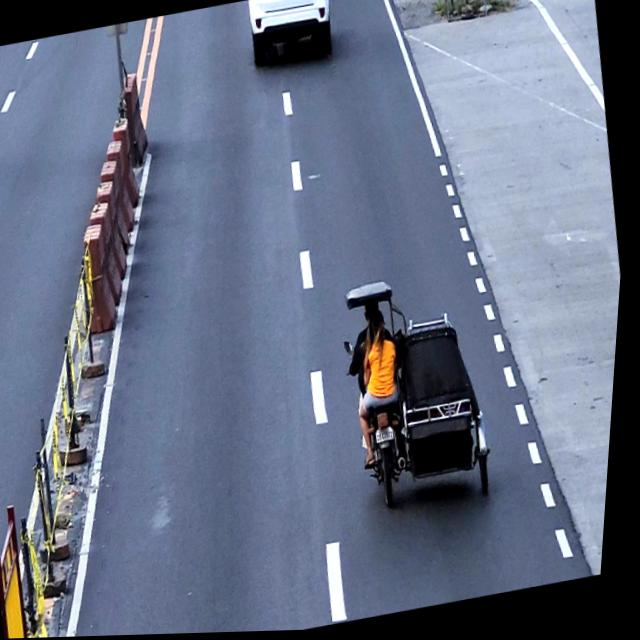Car: (243, 0, 338, 69)
License-Plate: (380, 427, 402, 450)
Tricycle: (330, 265, 513, 519)
